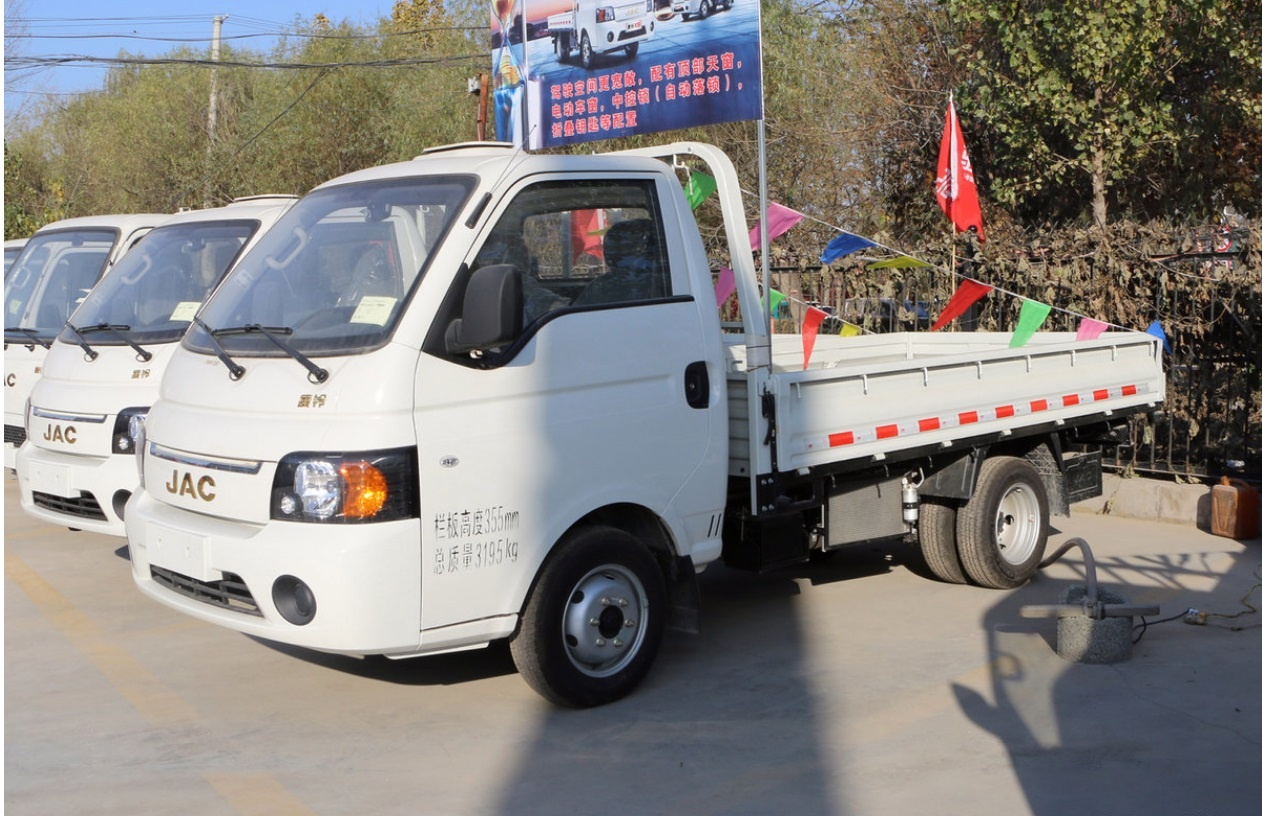truck: (142, 143, 1168, 675), (29, 188, 250, 549)
